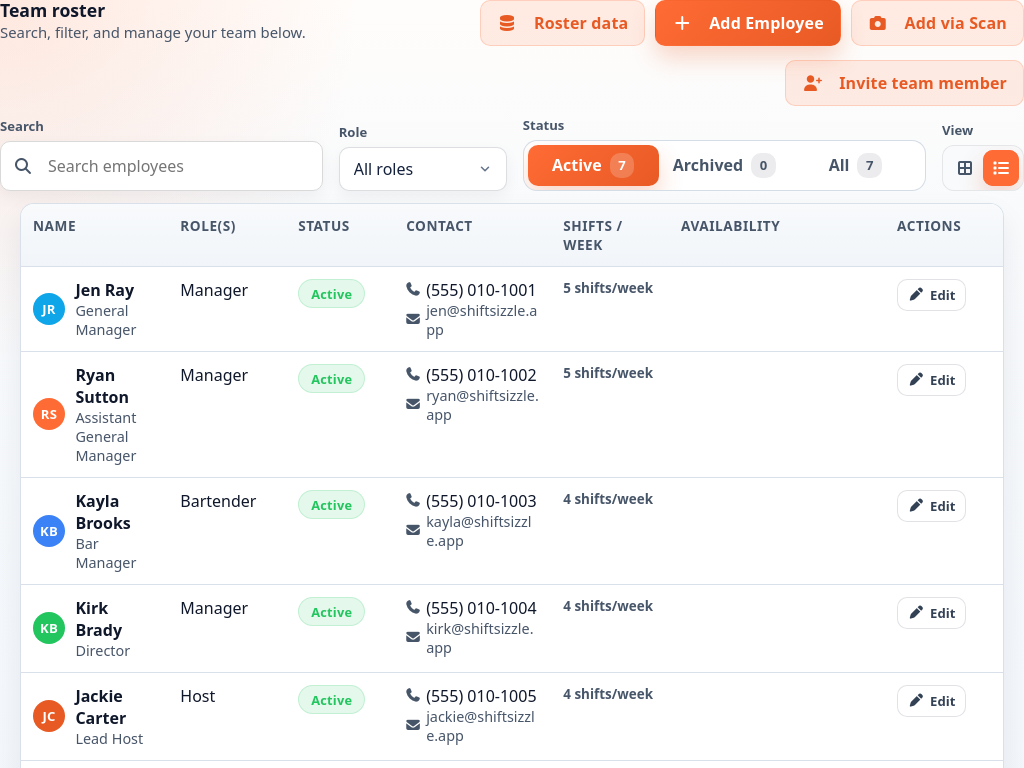
Test: Team view › can archive and reactivate a team member from the edit modal
Click the 1st button "Edit".
click(932, 295)  # box 897,279 -> 966,311
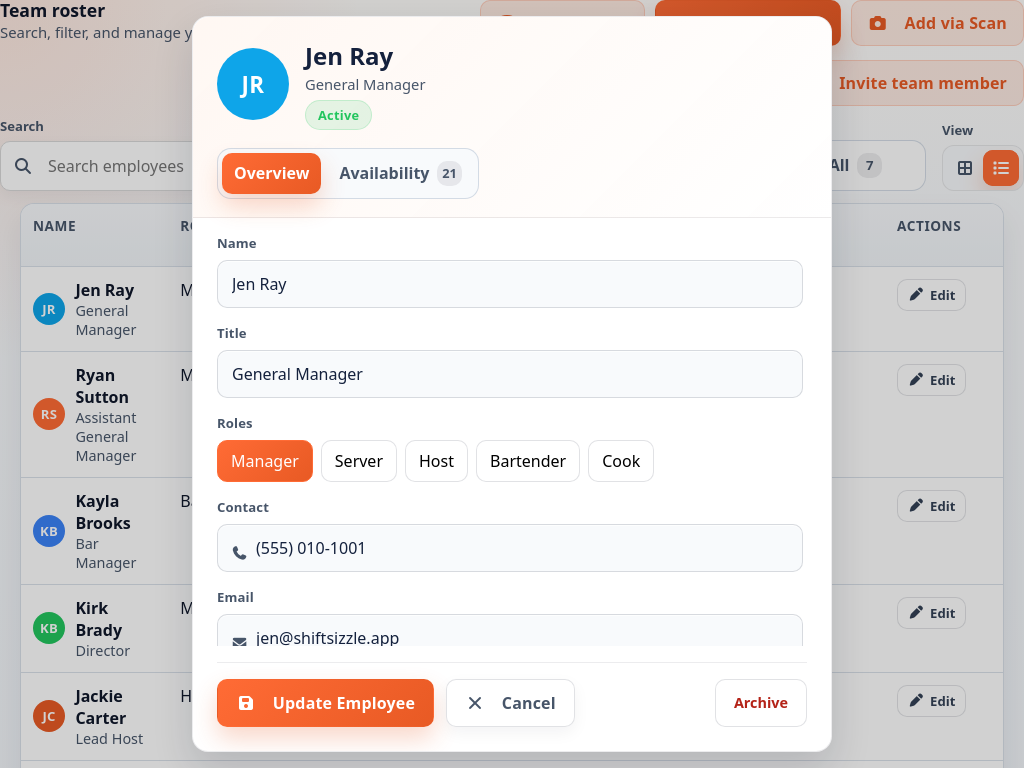
Click the button "Archive".
click(761, 703)  # box 715,679 -> 807,727
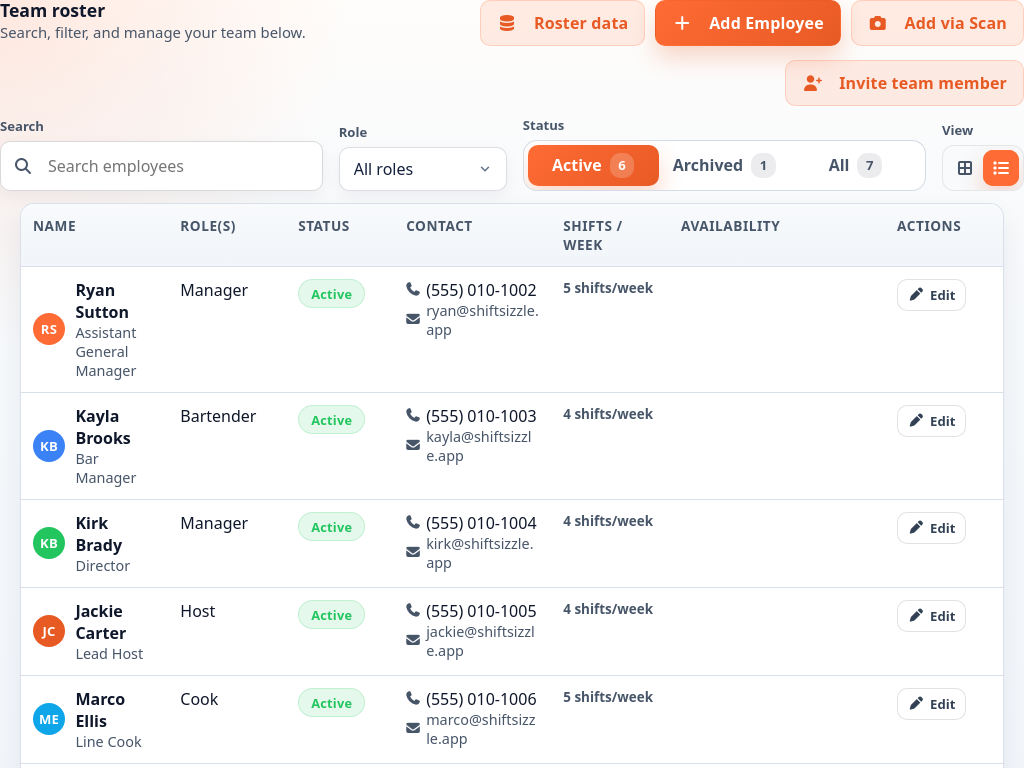
Click the button "Archived 1".
click(724, 165)  # box 659,145 -> 790,186
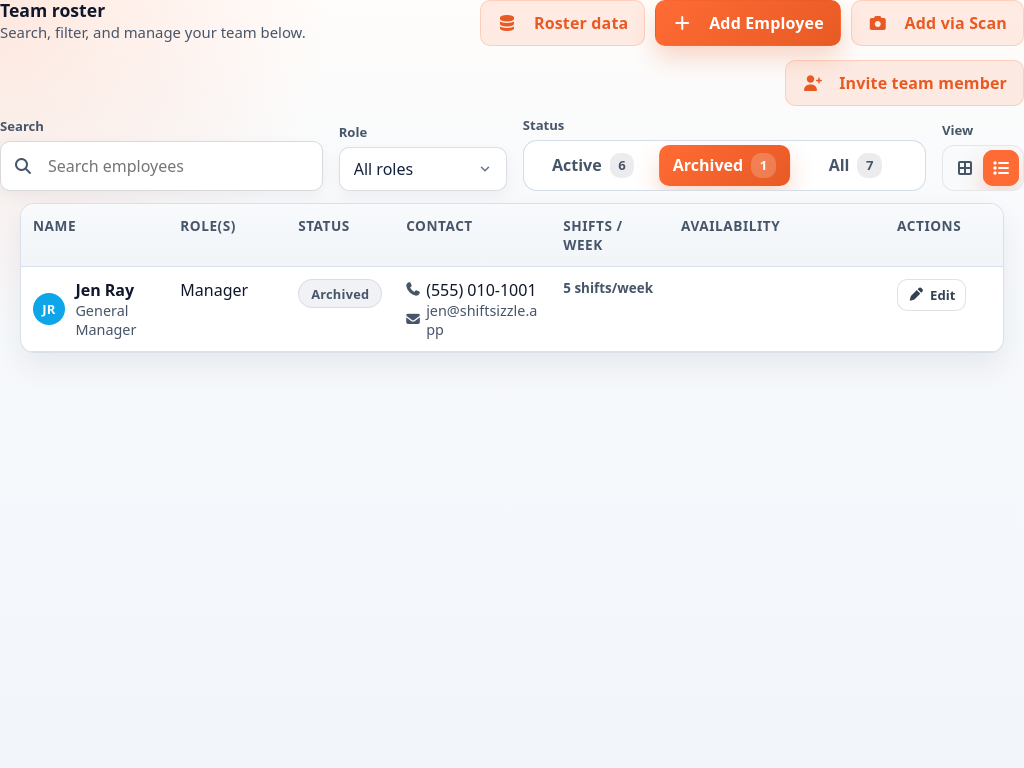
Click the button "Edit".
click(932, 295)  # box 897,279 -> 966,311
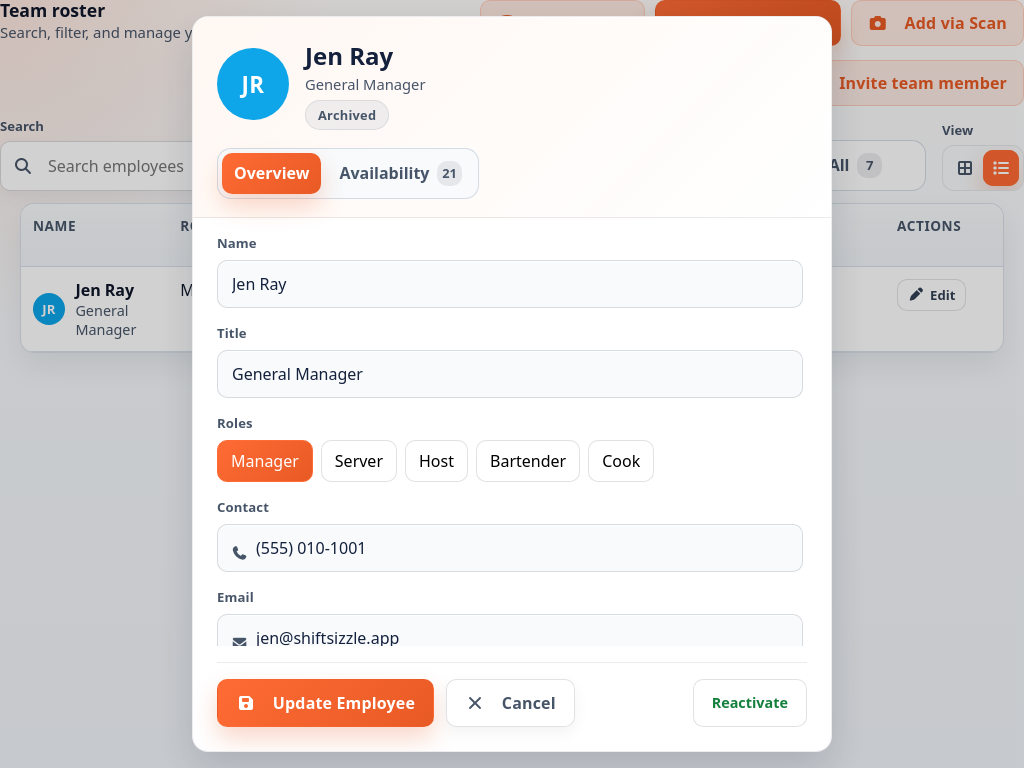
Expected: the button "Reactivate" is shown
Click the button "Reactivate".
click(750, 703)  # box 693,679 -> 807,727
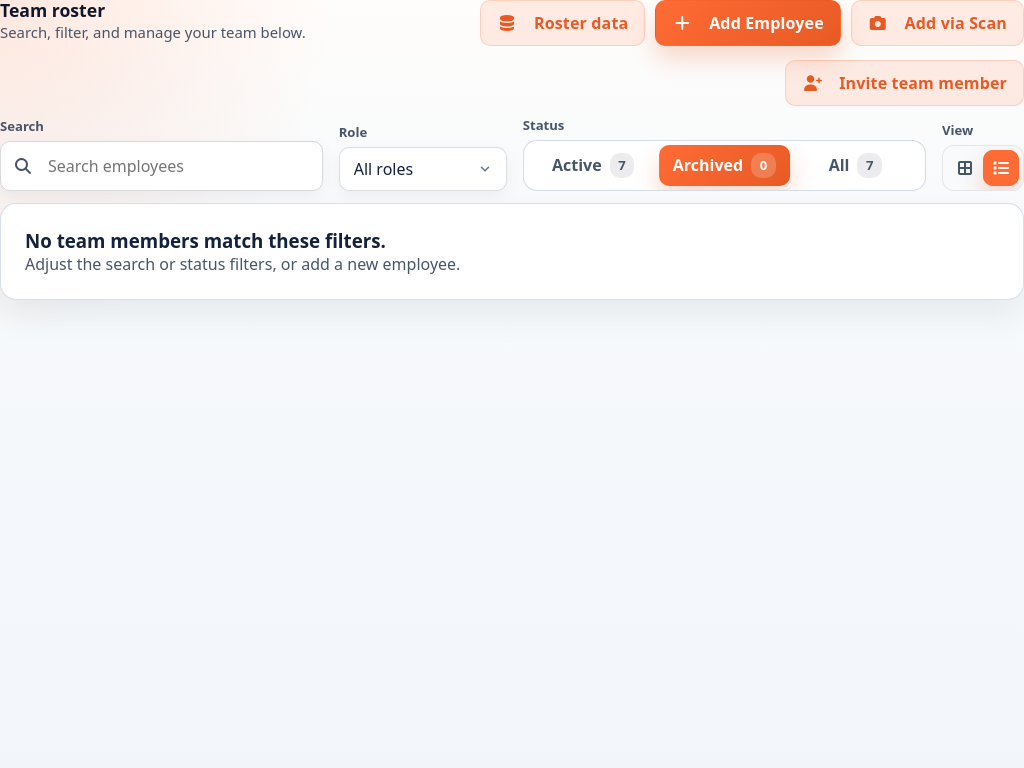
Expected: the button "Reactivate" is gone
